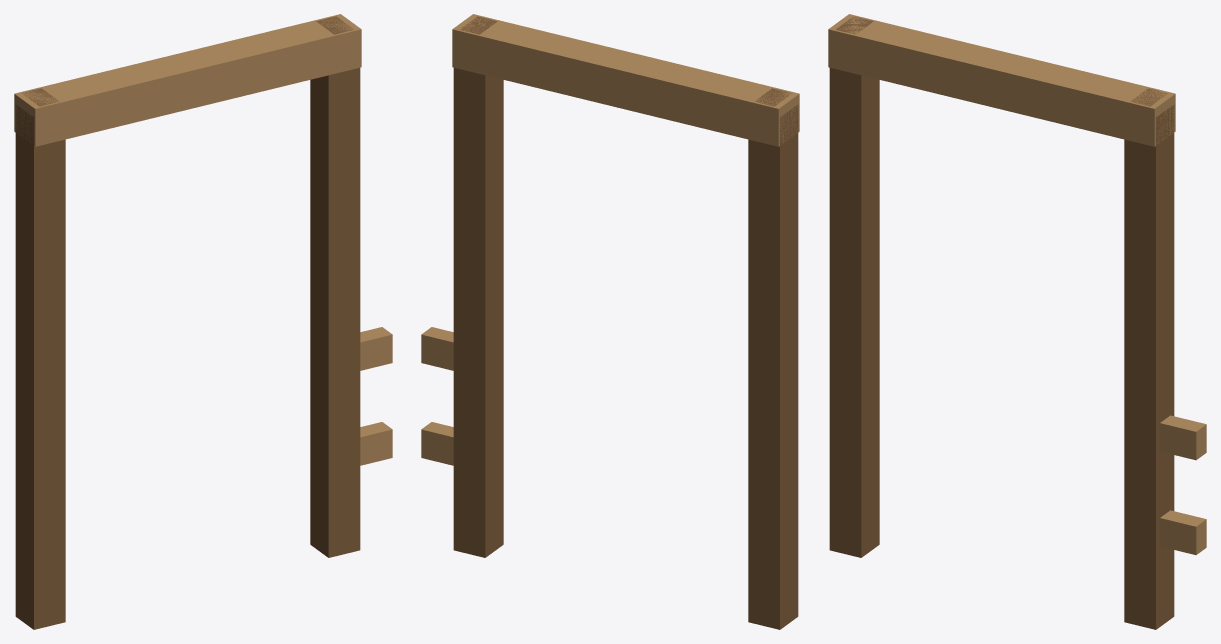
File: TW_WOOD_GATE_FRAME_A_LOD0.glb
The picture shows the model from 3 angles, left to right: view 1: azimuth 30°, elevation 25°; view 2: azimuth 150°, elevation 25°; view 3: azimuth 330°, elevation 25°; orthographic projection.
Visible parts, largest first — view 1: TW_WOOD_GATE_FRAME_A_LOD0; view 2: TW_WOOD_GATE_FRAME_A_LOD0; view 3: TW_WOOD_GATE_FRAME_A_LOD0.
Boxes of the visible parts, x1,y1,x2,y2 form: TW_WOOD_GATE_FRAME_A_LOD0: [14, 14, 392, 629]; TW_WOOD_GATE_FRAME_A_LOD0: [421, 14, 799, 629]; TW_WOOD_GATE_FRAME_A_LOD0: [828, 14, 1206, 629].
Bounding box in the file's own units: 1.6 × 2.2 × 0.16.
Materials: 1 (1 with a texture image).
